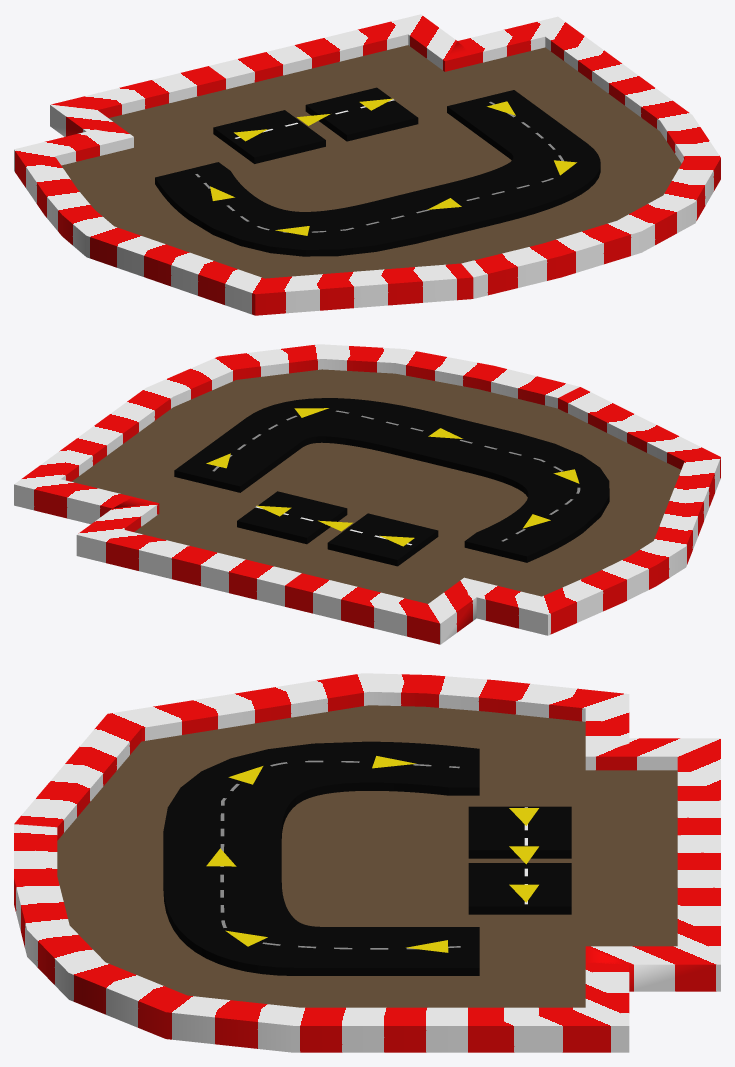
3 renders of one model, top to bottom at view 1: azimuth 30°, elevation 25°; view 2: azimuth 150°, elevation 25°; view 3: azimuth 270°, elevation 25°, orthographic. The views are drawn at different scales.
Parts seen in each view (by area): view 1: ta_floor, ta_coll, ta; view 2: ta_floor, ta_coll, ta; view 3: ta_floor, ta_coll, ta, Line0.
Part boxes in pixels (<box>): ta_floor: <box>61,45,681,278</box>; ta_coll: <box>14,14,720,315</box>; ta: <box>155,87,600,256</box>; ta_floor: <box>72,369,680,603</box>; ta_coll: <box>14,344,720,644</box>; ta: <box>174,398,609,566</box>; ta_floor: <box>57,705,677,1007</box>; ta_coll: <box>14,673,720,1052</box>; ta: <box>163,741,571,975</box>; Line0: <box>220,760,460,949</box>.
Bounding box in the file's own units: 922 × 32.78 × 781.
